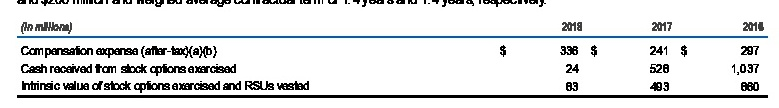table: (0, 0, 779, 108)
